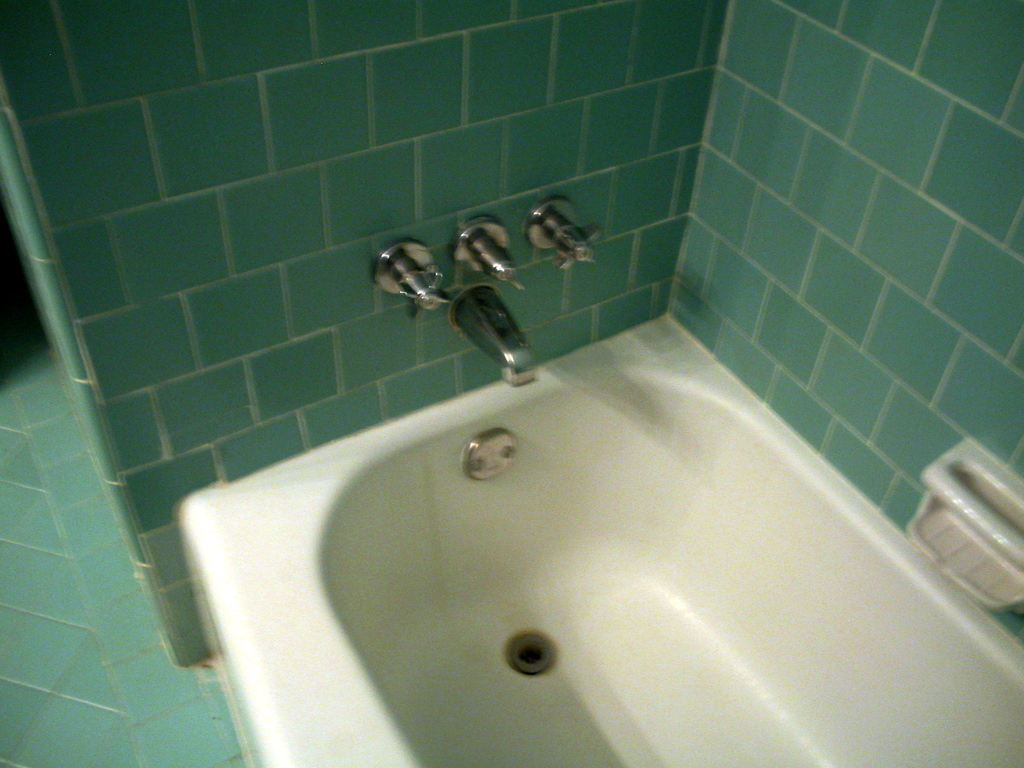tap: (455, 283, 538, 387)
